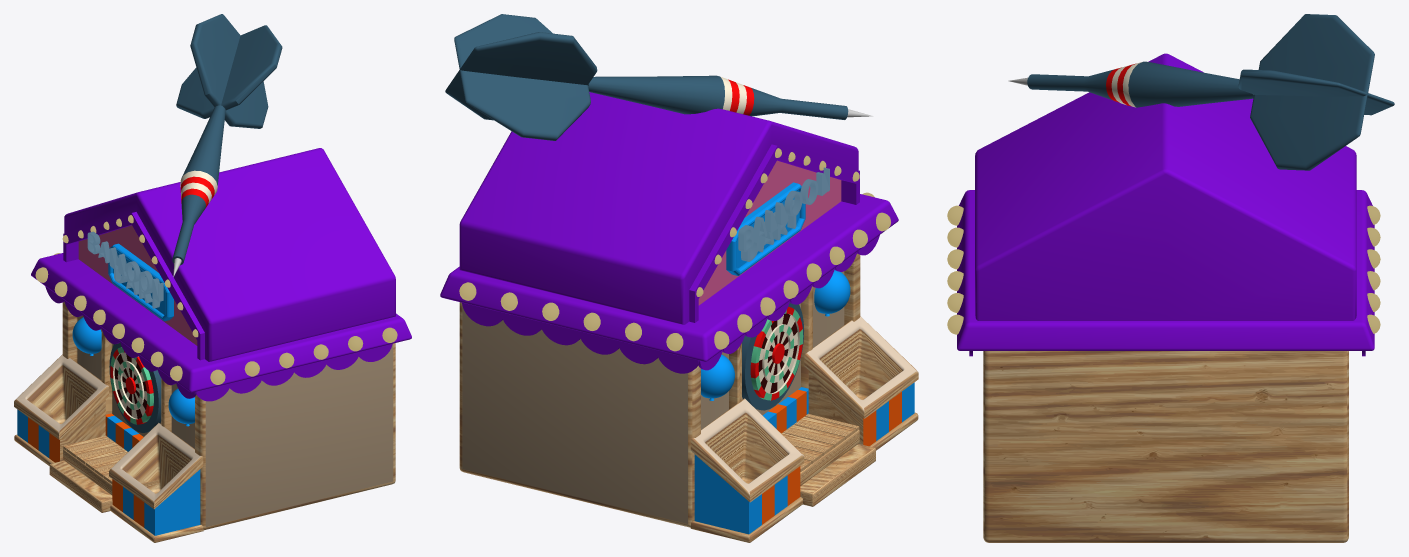
File: BalloonDart.fbx
3 renders of one model, left to right at view 1: azimuth 30°, elevation 25°; view 2: azimuth 150°, elevation 25°; view 3: azimuth 270°, elevation 25°, orthographic. The views are drawn at different scales.
Parts seen in each view (by area): view 1: 지붕, 벽, 다트, 밑_지붕, Cube_1, Cube_2, 꾸밈, 다트판, 조명, Cube_4, Extrude_2, Cloner (+3 smaller); view 2: 지붕, 벽, 다트, 밑_지붕, Cube_2, Cube_1, 꾸밈, 다트판, 조명, Cube_4, Extrude_2, 푸요ㅓ선 (+3 smaller); view 3: 지붕, 벽, 다트, 밑_지붕, 조명.
Boxes of the visible parts, x1,y1,x2,y2 form: 지붕: (63,148,395,361); 벽: (62,301,395,530); 다트: (172,14,282,265); 밑_지붕: (31,253,411,392); Cube_1: (109,423,203,542); Cube_2: (14,354,108,465); 꾸밈: (45,286,392,401); 다트판: (109,342,161,432); 조명: (35,215,397,384); Cube_4: (49,449,112,512); Extrude_2: (87,231,163,308); Cloner: (63,435,159,486); 지붕: (459,92,859,324); 벽: (459,253,860,527); 다트: (445,14,848,140); 밑_지붕: (440,194,898,361); Cube_2: (690,398,804,542); Cube_1: (804,316,918,450); 꾸밈: (462,235,879,373); 다트판: (742,302,803,410); 조명: (459,148,890,351); Cube_4: (800,430,875,506); Extrude_2: (738,167,829,261); 푸요ㅓ선: (701,270,850,400); 지붕: (975,53,1356,320); 벽: (983,351,1348,542); 다트: (1027,14,1394,170); 밑_지붕: (957,190,1374,350); 조명: (947,205,1380,334).
Size of the model in its own units: 450 by 629 by 521.
Materials: 14 (1 with a texture image).
